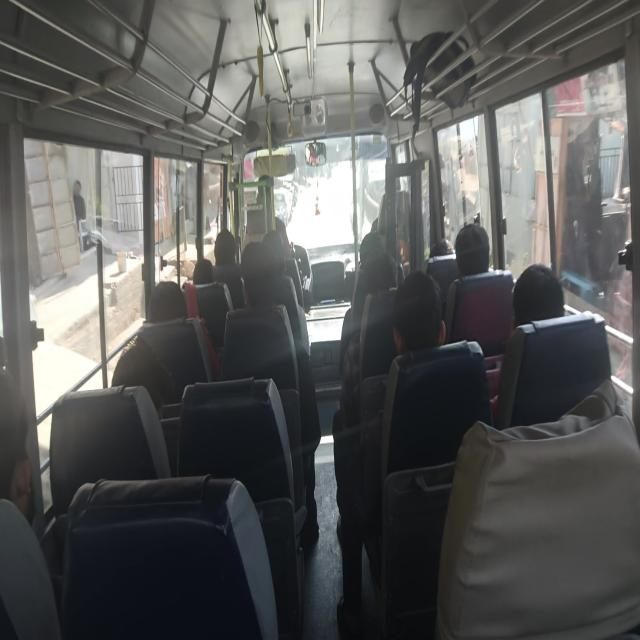person: (435, 376, 639, 638), (334, 269, 446, 635), (221, 240, 321, 543), (0, 369, 61, 638), (490, 262, 565, 424), (443, 222, 491, 343), (0, 369, 33, 520), (392, 270, 446, 354), (511, 262, 565, 330), (212, 228, 244, 310), (454, 222, 490, 277), (73, 180, 86, 252)
